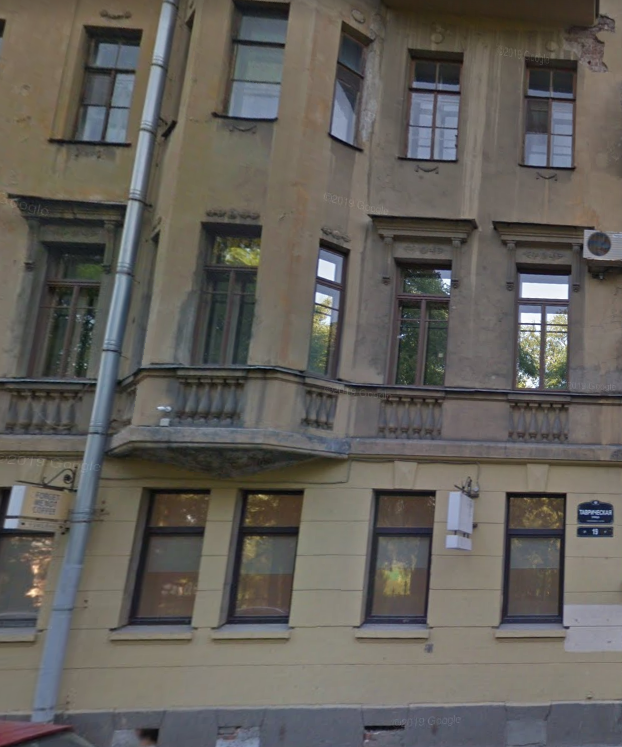cantilever: (5, 463, 86, 527), (444, 471, 486, 550)
window: (127, 483, 211, 625), (18, 243, 103, 377), (194, 224, 263, 375), (229, 490, 301, 623), (503, 492, 570, 625), (367, 490, 432, 623), (389, 260, 449, 385), (513, 266, 570, 393), (400, 48, 463, 162), (517, 60, 580, 172), (70, 40, 136, 146), (304, 248, 352, 374)
